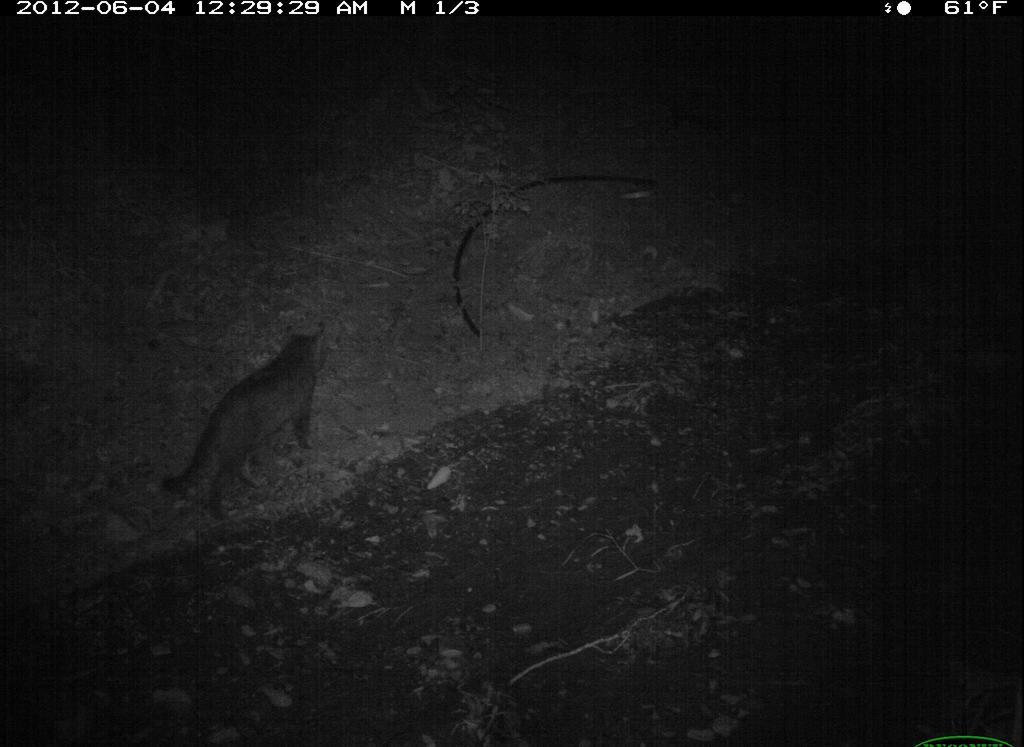cat: (54, 312, 513, 638)
